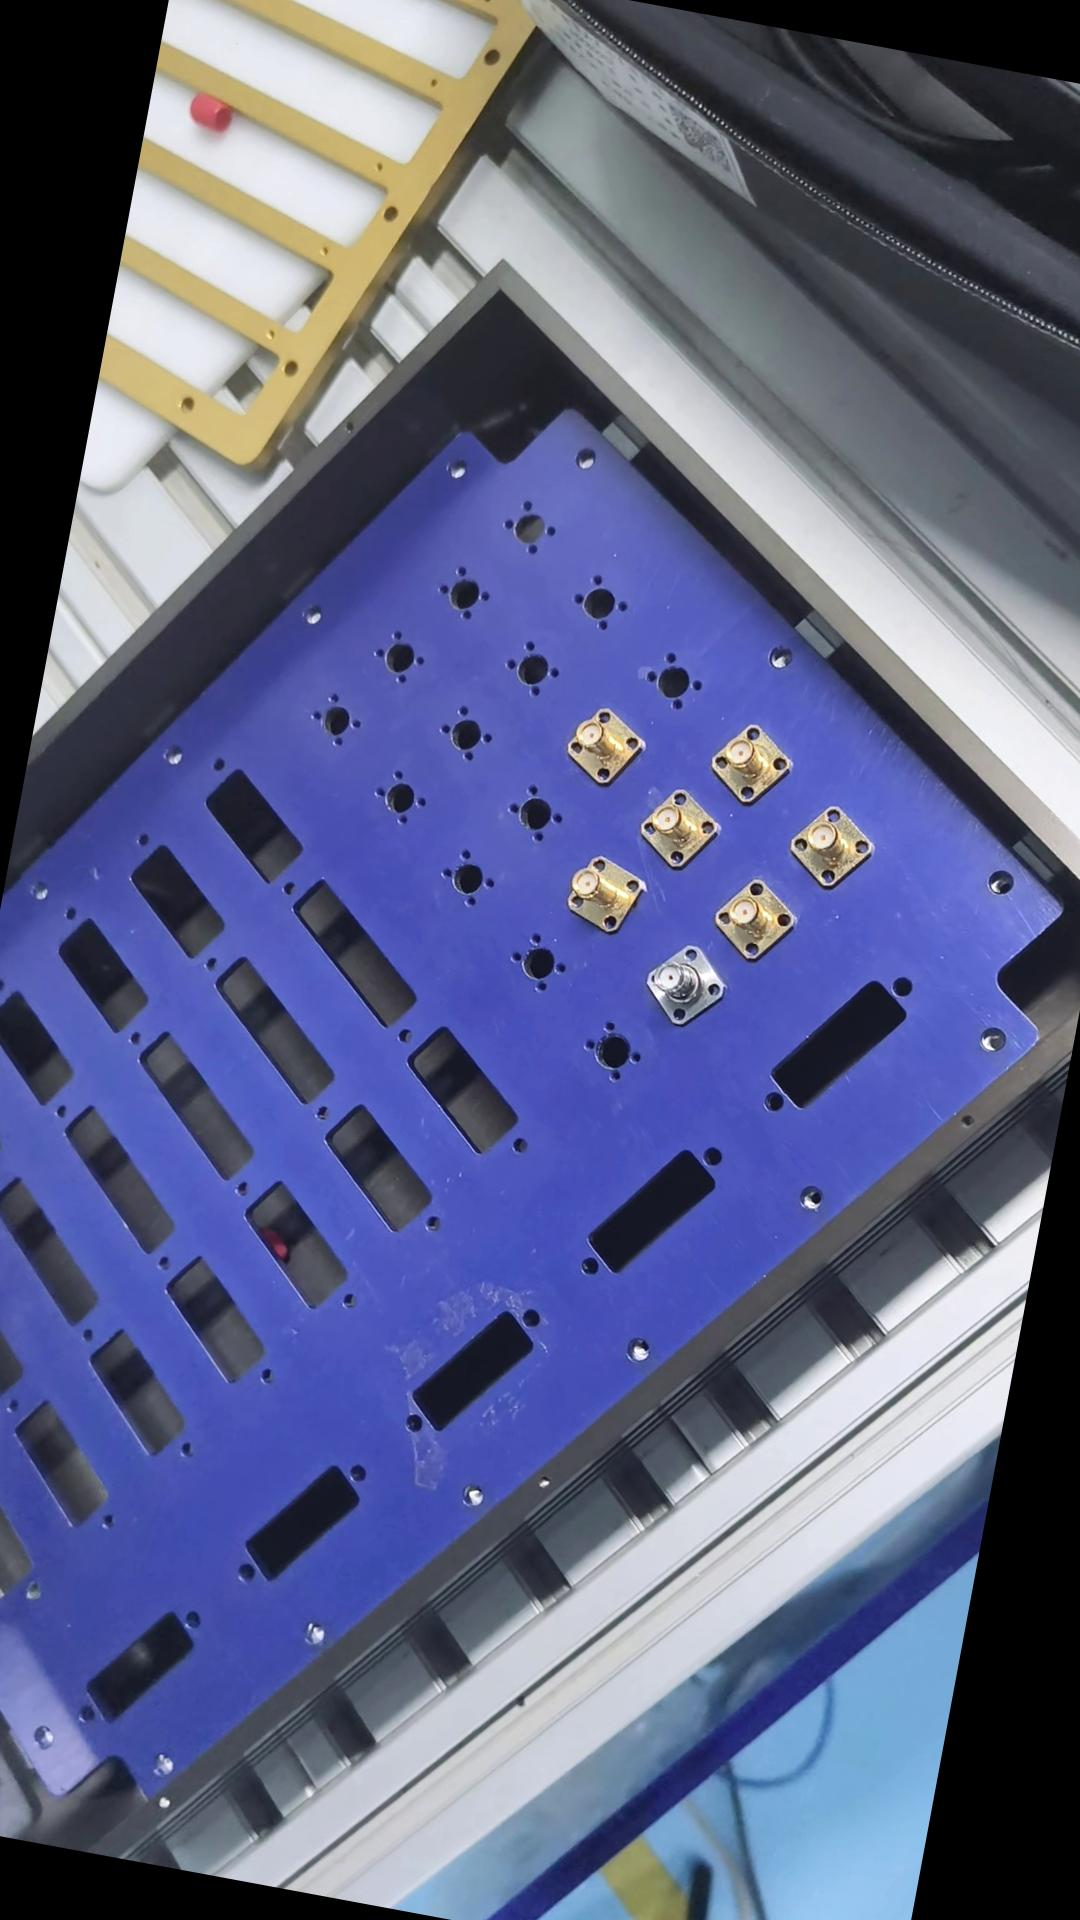SMA: (779, 793, 882, 895), (703, 866, 807, 964), (632, 931, 731, 1029), (699, 715, 796, 808), (553, 696, 646, 793), (630, 778, 723, 873), (556, 849, 644, 938)
